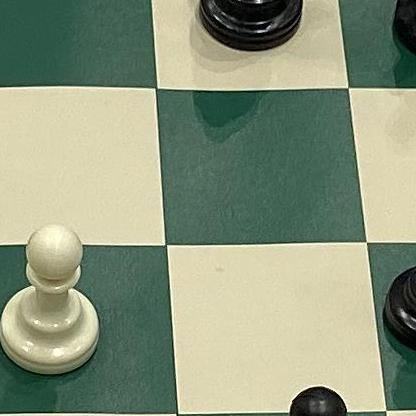black-bishop: (197, 0, 309, 52)
black-pawn: (374, 198, 416, 359), (252, 380, 362, 416)
white-pawn: (0, 215, 106, 382)
